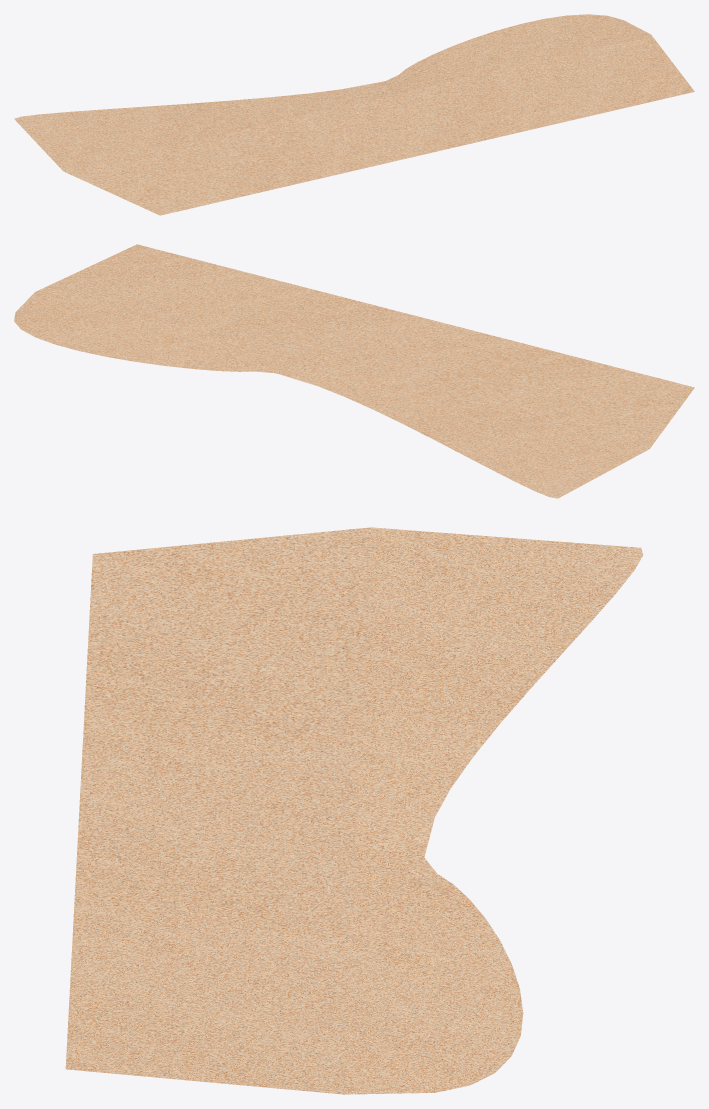
The model's file is coast.obj.
3 views of the same model, one above another, from view 1: azimuth 30°, elevation 25°; view 2: azimuth 150°, elevation 25°; view 3: azimuth 270°, elevation 25° (orthographic). The views are drawn at different scales.
Visible parts, largest first — view 1: 立方体_立方体.001; view 2: 立方体_立方体.001; view 3: 立方体_立方体.001.
Boxes of the visible parts, left/top/right/bottom form: 立方体_立方体.001: left=14, top=14, right=694, bottom=215; 立方体_立方体.001: left=14, top=244, right=694, bottom=498; 立方体_立方体.001: left=65, top=527, right=643, bottom=1094.
Size of the model in its own units: 277 by 0.6 by 119.
Materials: 1 (1 with a texture image).
